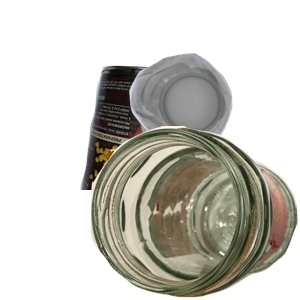glass: (90, 126, 300, 300)
metal: (78, 63, 266, 243)
plastic: (127, 51, 300, 197)
trash: (103, 147, 300, 300)
